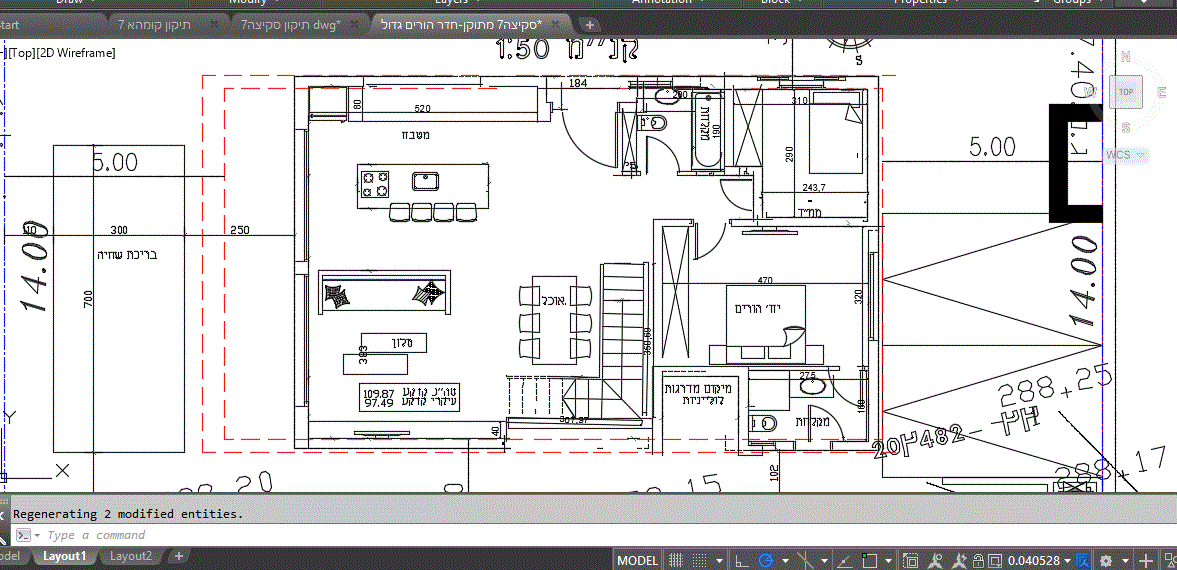door: (641, 131, 682, 166), (692, 230, 733, 265), (710, 177, 751, 212)
window: (303, 275, 310, 401), (304, 131, 310, 254), (868, 250, 875, 342)
